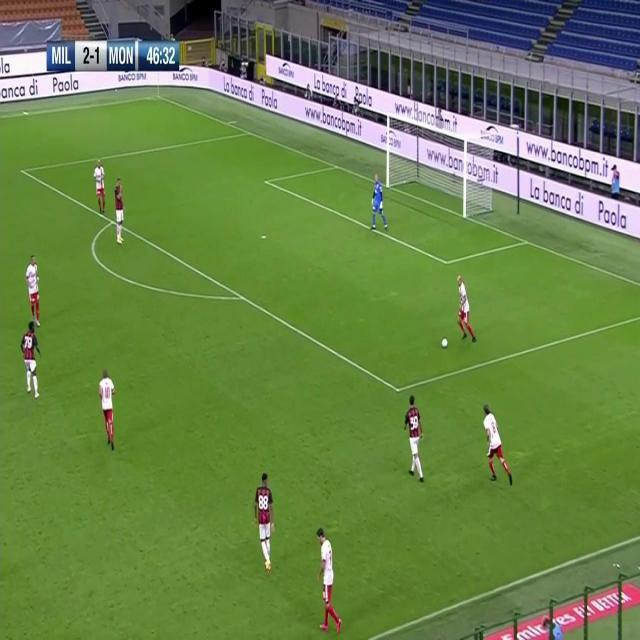ball: (441, 335, 450, 350)
goalkeeper: (369, 172, 389, 232)
player: (316, 527, 343, 634), (482, 403, 515, 488), (254, 471, 277, 576), (404, 393, 427, 482), (21, 319, 43, 402), (99, 367, 118, 452), (455, 272, 477, 344), (25, 254, 43, 324), (114, 174, 126, 246), (93, 156, 107, 217)
